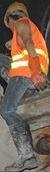boots: (5, 120, 39, 172)
gloves: (27, 54, 47, 91)
hard-hat: (4, 1, 29, 27)
vest: (6, 16, 50, 82)
